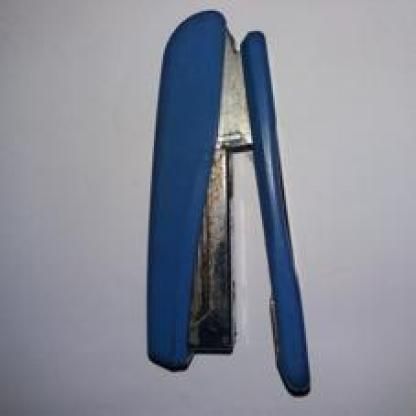stapler: (138, 12, 339, 392)
